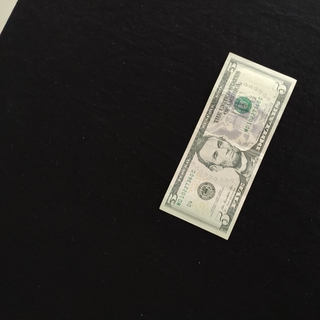5USDFront: (159, 51, 297, 240)
